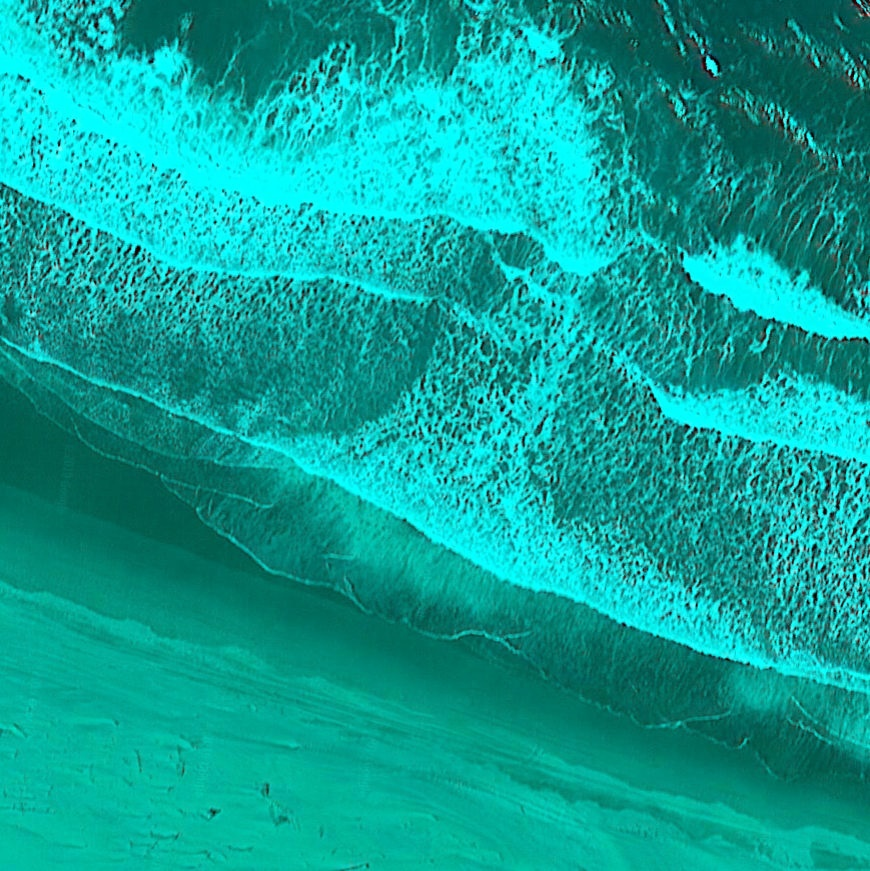rip_current: (252, 64, 600, 477)
